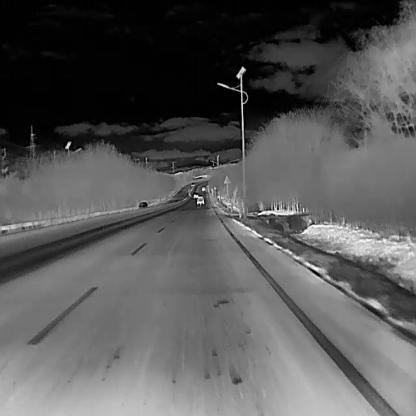car: (196, 196, 204, 203), (138, 201, 146, 208)
